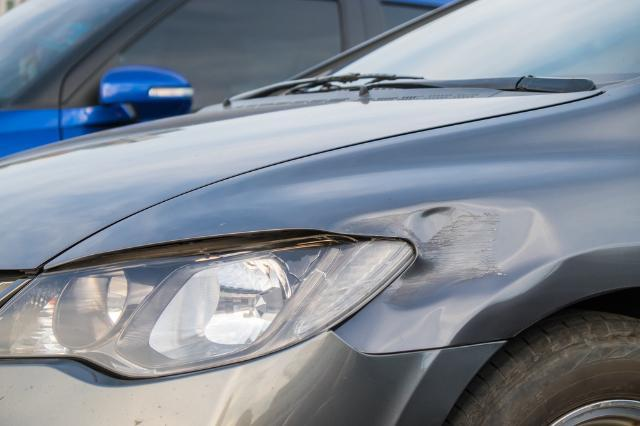dent: (344, 205, 561, 307)
